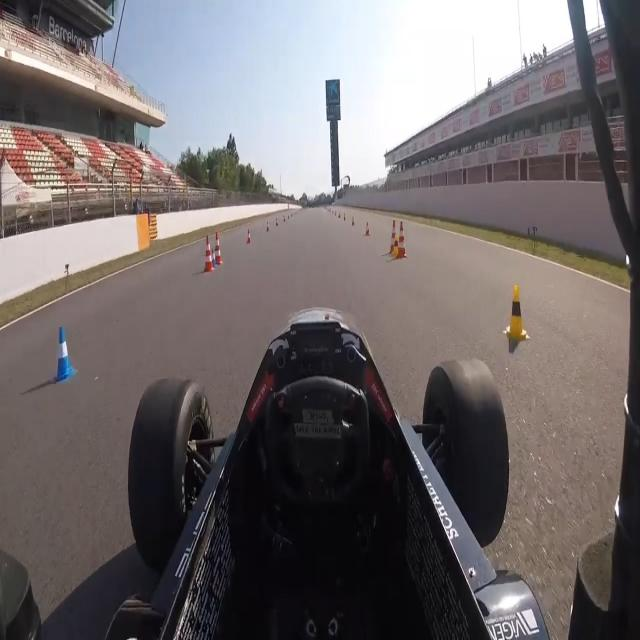blue_cone: (51, 321, 77, 385), (210, 248, 218, 268)
large_orange_cone: (396, 221, 407, 259), (204, 234, 213, 272), (213, 231, 223, 265), (389, 218, 398, 253)
orange_cone: (364, 220, 370, 236), (246, 228, 252, 244)
yellow_cone: (504, 280, 529, 343), (392, 233, 400, 255)
